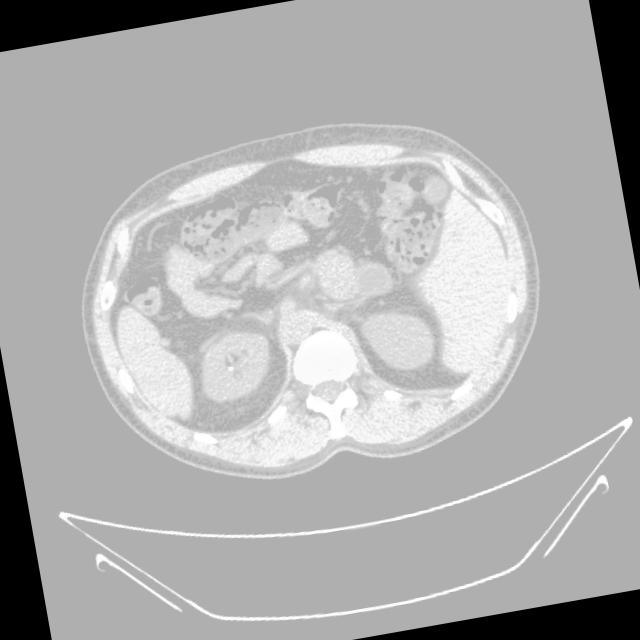STONE: (6, 127, 511, 355)
